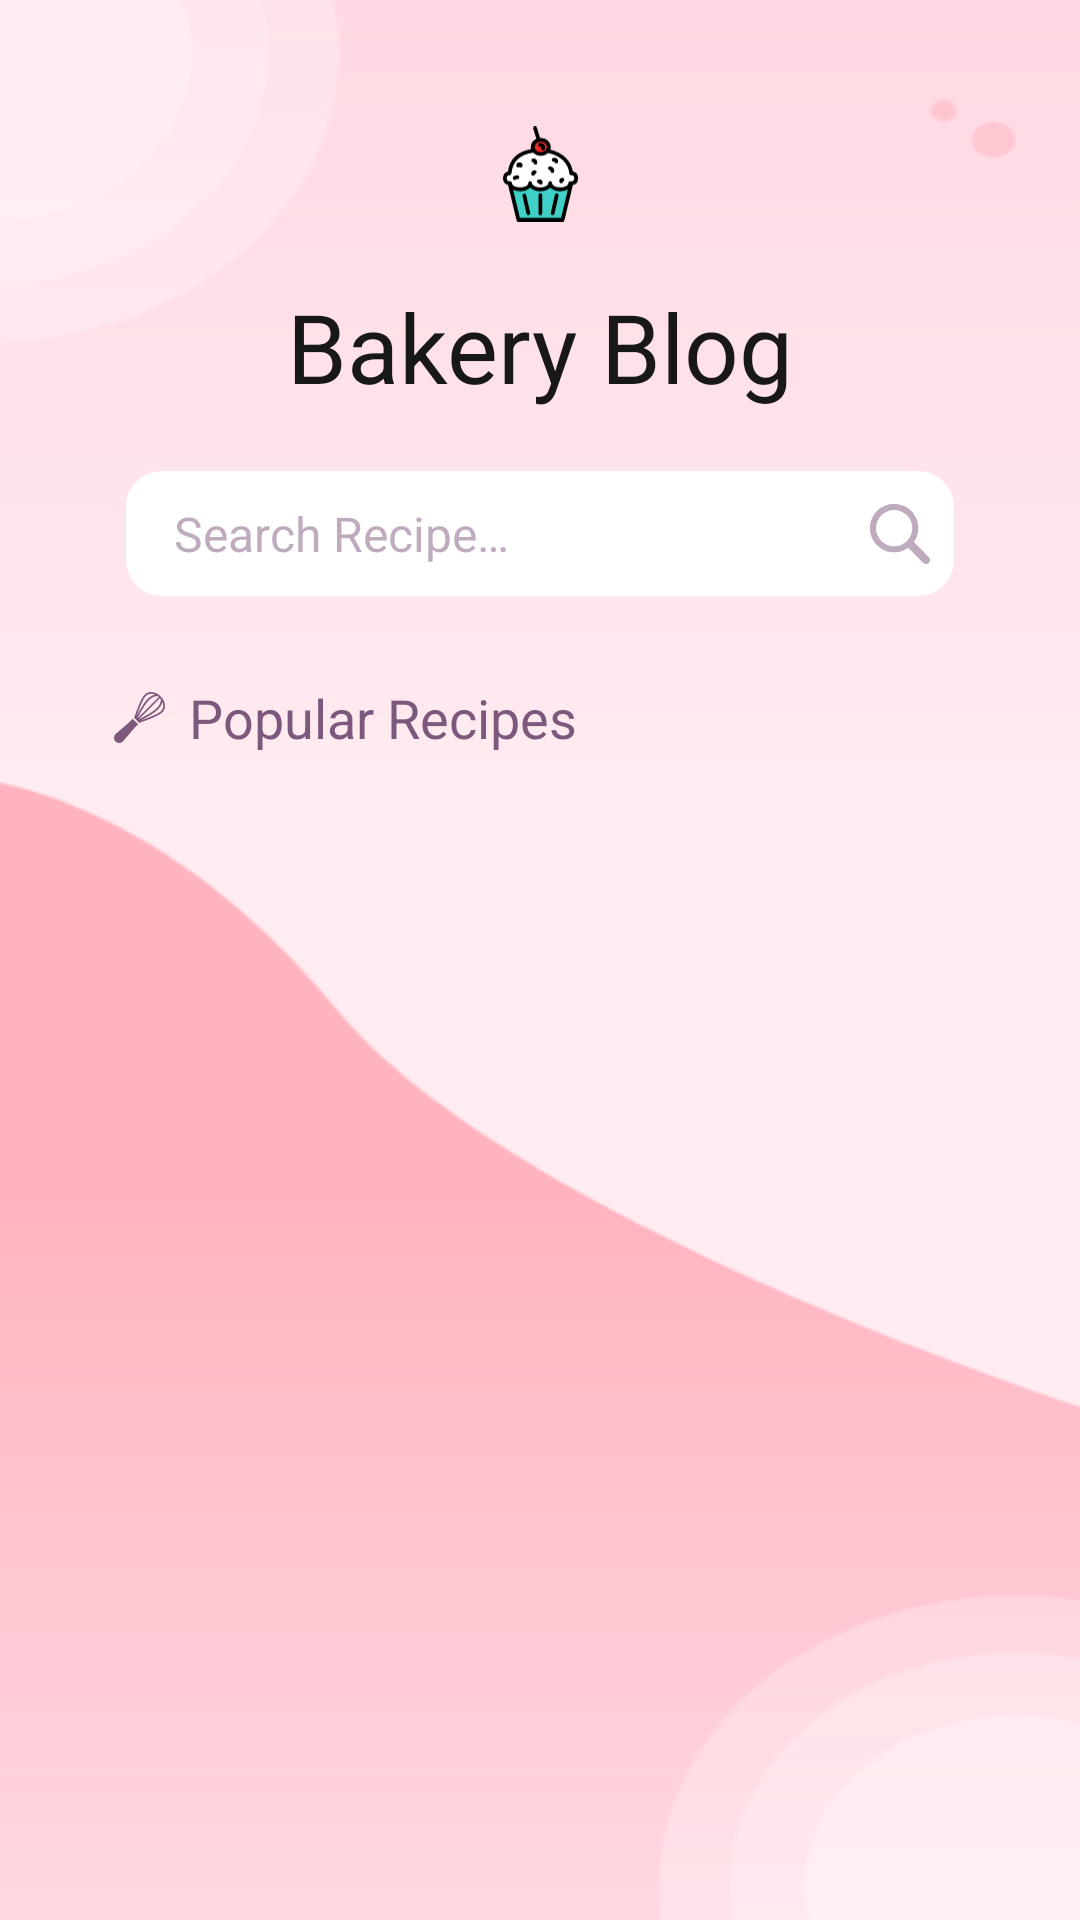

Named icons in this screenshot (1080*1920) and their centers, point (x, y):
This is an icon cupcake: point (540, 174)
This is an icon search magnifier: point (900, 534)
This is an icon whisk: point (139, 717)
